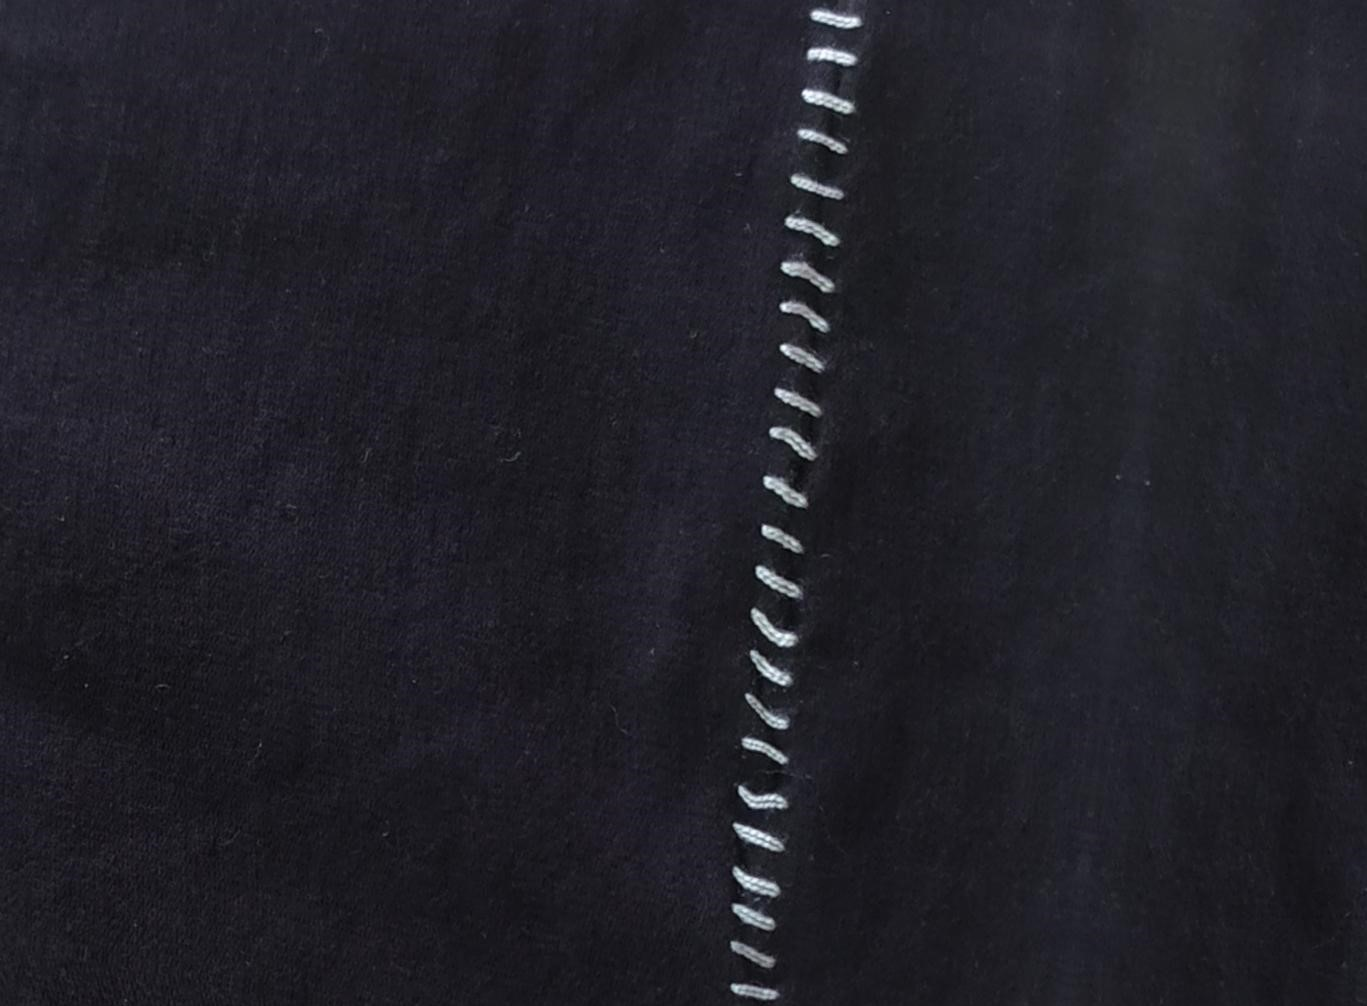slub: (721, 5, 876, 996)
